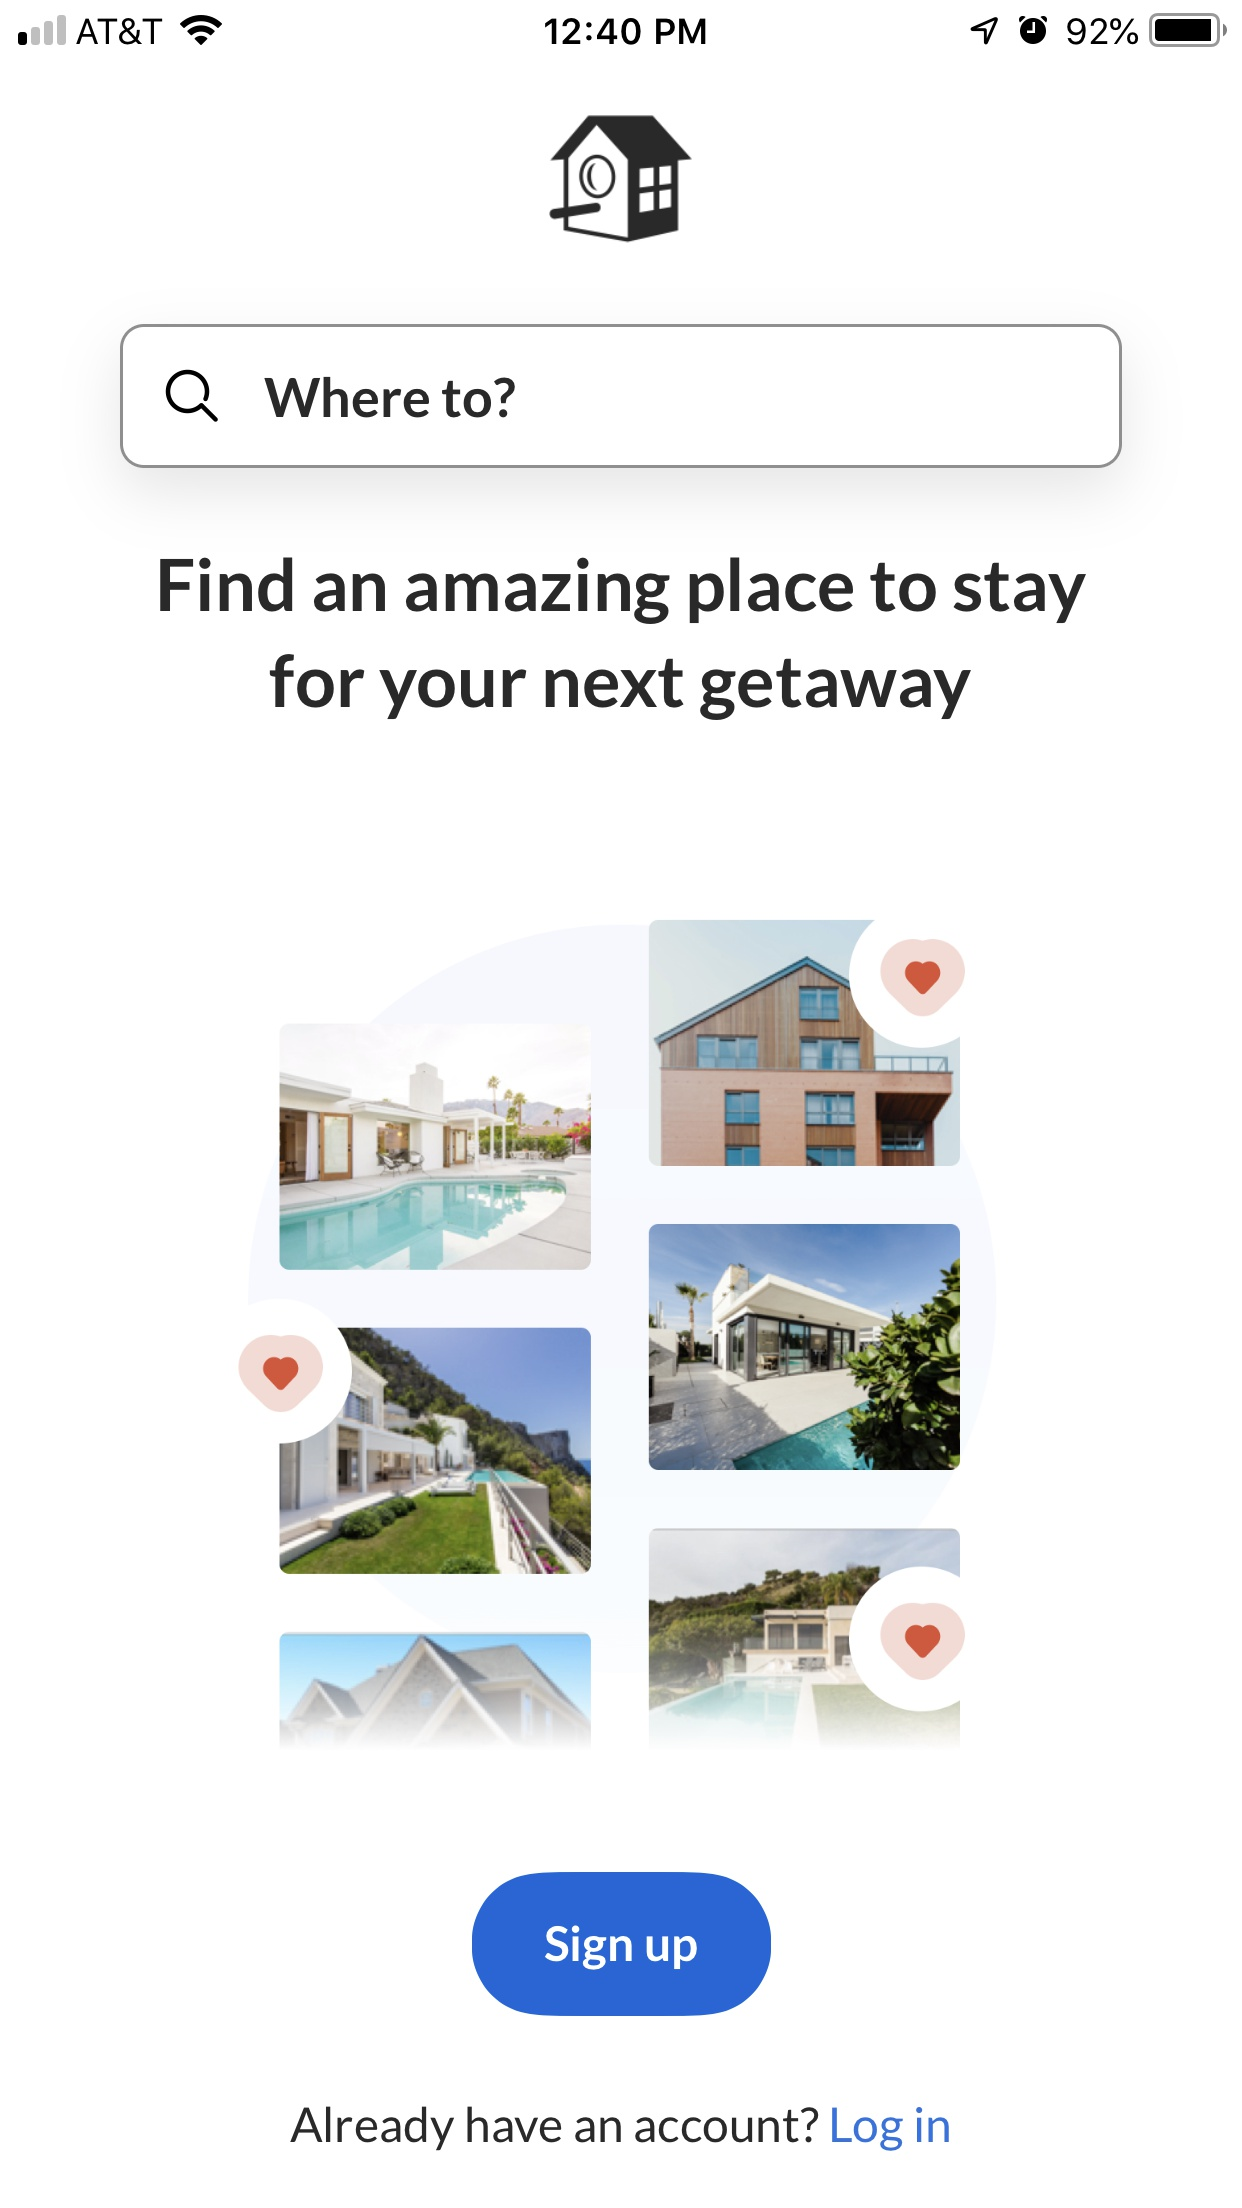EditText: (120, 325, 1124, 469)
Icon: (549, 115, 693, 244), (165, 369, 220, 423)
Image: (238, 919, 998, 1749)
Text: (161, 557, 1087, 720), (265, 378, 517, 420)
TextButton: (472, 1871, 772, 2017), (290, 2105, 949, 2152)
UpperTaskBar: (2, 2, 1242, 49)
